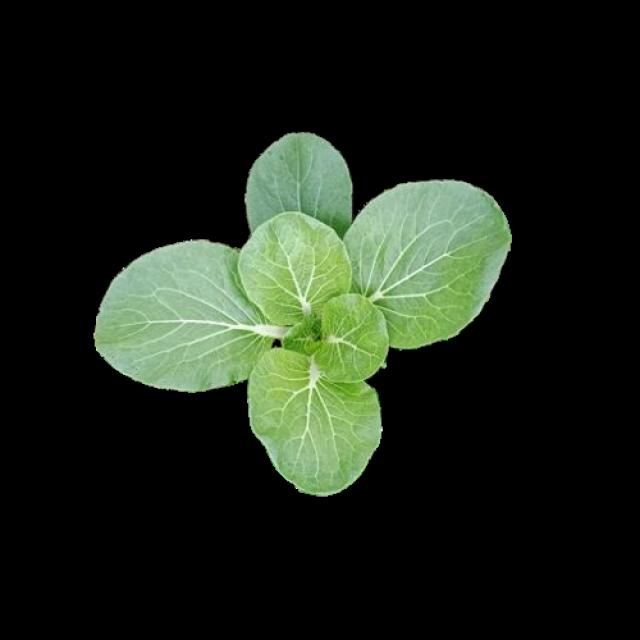healthy: (100, 133, 508, 487)
not-mature: (102, 136, 511, 489)
